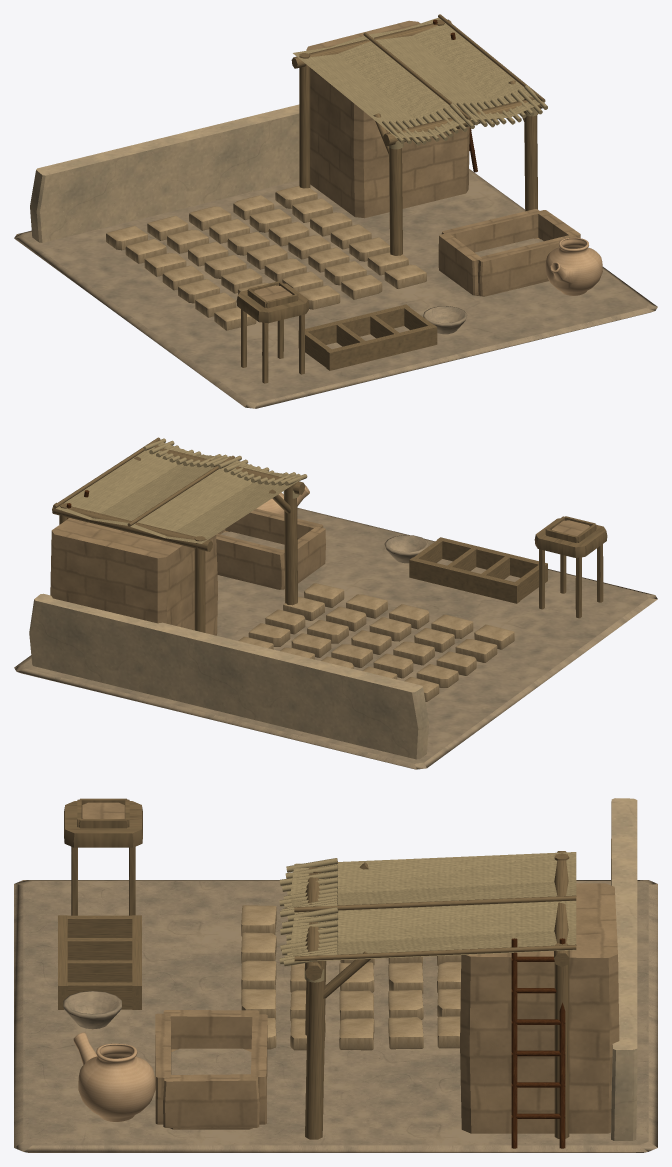
File: brickyard.glb
3 views of the same model, one above another, from view 1: azimuth 30°, elevation 25°; view 2: azimuth 150°, elevation 25°; view 3: azimuth 270°, elevation 25° (orthographic). The views are drawn at different scales.
Parts seen in each view (by area): view 1: original-brickyard-alluvial-earth, original-brickyard-handmade-yard-craft, original-brickyard-game-raw-brick-facing, original-brickyard-warm-clay-plaster, original-brickyard-reed-mat, original-brickyard-worn-timber; view 2: original-brickyard-alluvial-earth, original-brickyard-warm-clay-plaster, original-brickyard-game-raw-brick-facing, original-brickyard-handmade-yard-craft, original-brickyard-worn-timber, original-brickyard-reed-mat; view 3: original-brickyard-alluvial-earth, original-brickyard-game-raw-brick-facing, original-brickyard-reed-mat, original-brickyard-worn-timber, original-brickyard-handmade-yard-craft, original-brickyard-warm-clay-plaster, roof-access-brickyard.
Boxes of the visible parts, x1,y1,x2,y2 form: original-brickyard-alluvial-earth: (14,169,657,408); original-brickyard-handmade-yard-craft: (106,186,602,330); original-brickyard-game-raw-brick-facing: (254,20,580,301); original-brickyard-warm-clay-plaster: (30,104,299,242); original-brickyard-reed-mat: (293,17,547,149); original-brickyard-worn-timber: (236,14,545,383); original-brickyard-alluvial-earth: (14,507,657,769); original-brickyard-warm-clay-plaster: (29,593,428,759); original-brickyard-game-raw-brick-facing: (50,508,589,635); original-brickyard-handmade-yard-craft: (238,485,514,701); original-brickyard-worn-timber: (52,437,607,632); original-brickyard-reed-mat: (53,438,307,543); original-brickyard-alluvial-earth: (14,880,657,1152); original-brickyard-game-raw-brick-facing: (81,802,619,1133); original-brickyard-reed-mat: (279,852,576,982); original-brickyard-worn-timber: (58,798,576,1139); original-brickyard-handmade-yard-craft: (73,905,461,1121); original-brickyard-warm-clay-plaster: (611,798,637,1140); roof-access-brickyard: (511,938,565,1148).
Size of the model in its own units: 5.39 by 1.85 by 5.37.
Materials: 7 (7 with a texture image).
